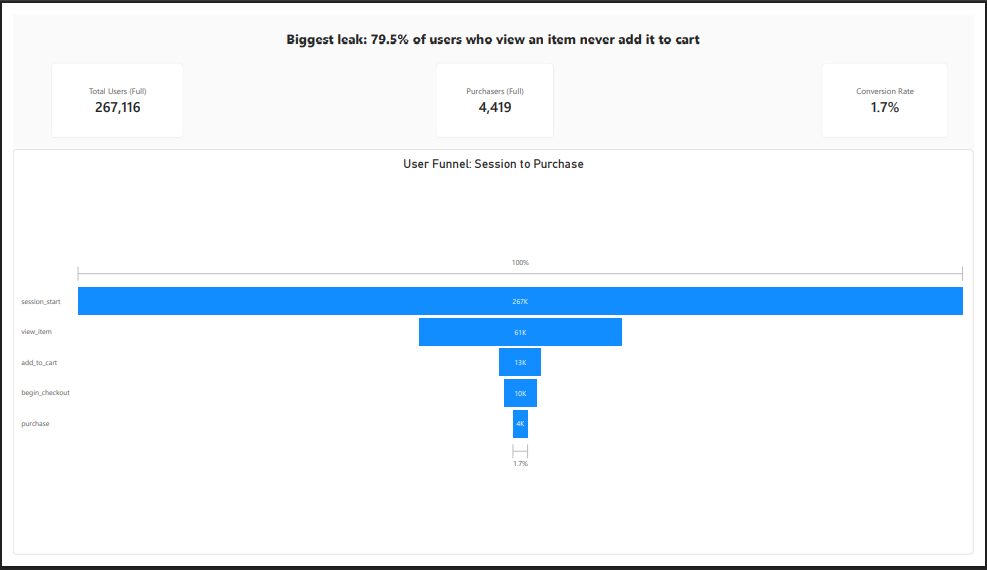

What the dashboard file says about the page in this screenshot:
{"tool":"powerbi","page":{"name":"Funnel","canvas":[1920,1080],"ordinal":0},"visuals":[{"type":"funnel","title":"User Funnel: Session to Purchase","fields":{"Category":["funnel_user_level.event_name"],"Y":["Sum(funnel_user_level.users)"]},"box":[0,246.6,1919.1,833.4],"z":0},{"type":"textbox","box":[0,28.3,1919.1,68],"z":1000},{"type":"cardVisual","fields":{"Data":["funnel_user_level.Total Users (Full)"]},"box":[76.5,96.4,263.6,150.2],"z":2000},{"type":"cardVisual","fields":{"Data":["funnel_user_level.Purchasers (Full)"]},"box":[844.7,96.4,235.3,150.2],"z":3000},{"type":"cardVisual","fields":{"Data":["funnel_user_level.Conversion Rate"]},"box":[1615.8,96.4,252.3,150.2],"z":4000}]}

Visuals, with their boxes in screenshot pixels (x1, y1, x2, y2), scaled from the page's 1920x1080 canvas onto the 987x570 screenshot:
"User Funnel: Session to Purchase" funnel: x1=0, y1=130, x2=986, y2=569
textbox: x1=0, y1=15, x2=986, y2=51
cardVisual - funnel_user_level.Total Users (Full): x1=39, y1=51, x2=175, y2=130
cardVisual - funnel_user_level.Purchasers (Full): x1=434, y1=51, x2=555, y2=130
cardVisual - funnel_user_level.Conversion Rate: x1=831, y1=51, x2=960, y2=130
